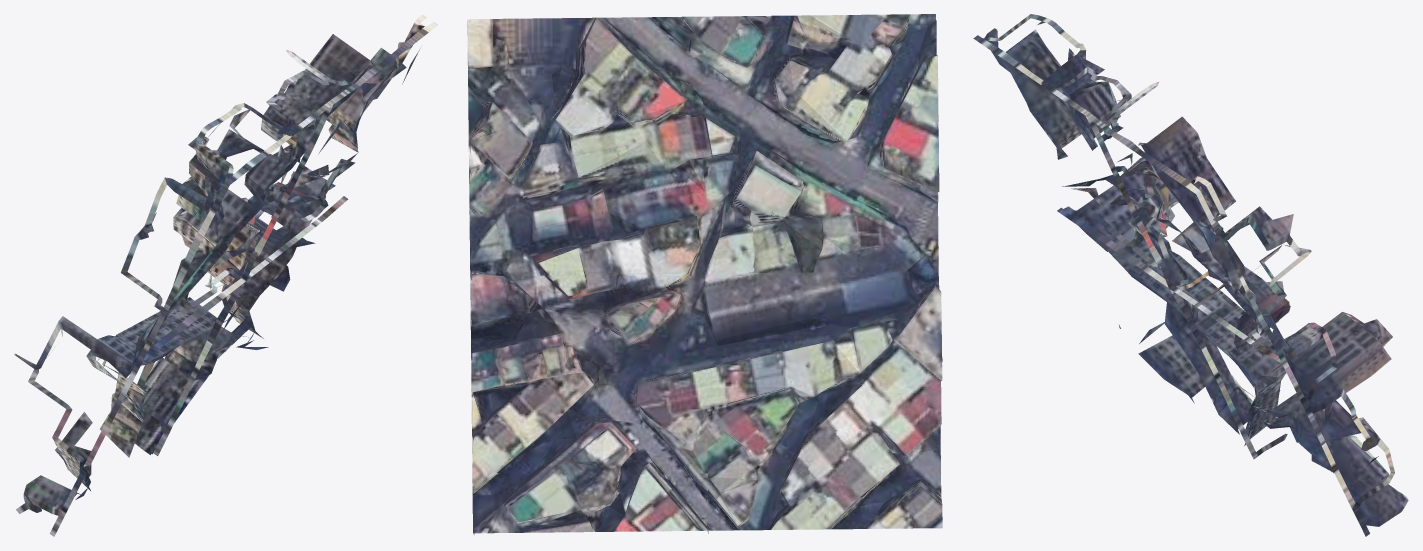
The picture shows the model from 3 angles, left to right: view 1: azimuth 30°, elevation 25°; view 2: azimuth 150°, elevation 25°; view 3: azimuth 270°, elevation 25°; orthographic projection. The views are drawn at different scales.
Bounding box in the file's own units: 159 × 149 × 141.
1 material, 1 textured.
